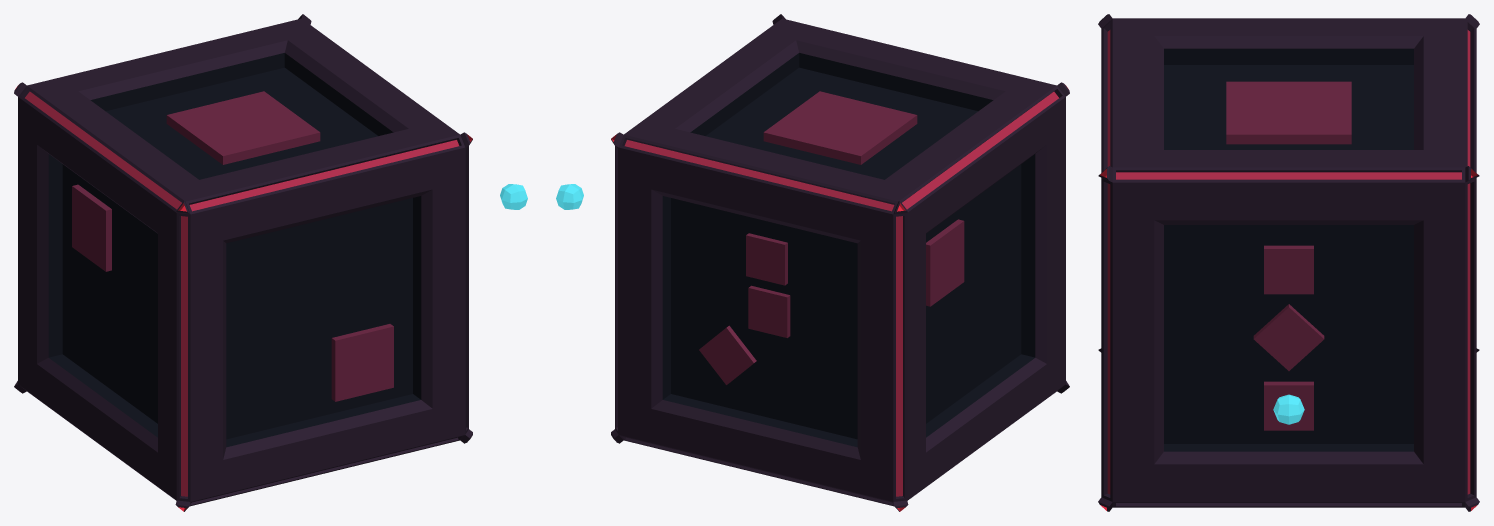
File: better-box.glb
The picture shows the model from 3 angles, left to right: view 1: azimuth 30°, elevation 25°; view 2: azimuth 150°, elevation 25°; view 3: azimuth 270°, elevation 25°; orthographic projection. The views are drawn at different scales.
Visible parts, largest first — view 1: box, orb; view 2: box, orb; view 3: box, orb.
Boxes of the visible parts, x1,y1,x2,y2 form: box: [14, 14, 472, 511]; orb: [500, 184, 527, 209]; box: [611, 14, 1069, 511]; orb: [556, 184, 583, 209]; box: [1098, 14, 1479, 511]; orb: [1273, 394, 1304, 424].
Bounding box in the file's own units: 2.95 × 2.04 × 2.04.
2 materials, 2 textured.
